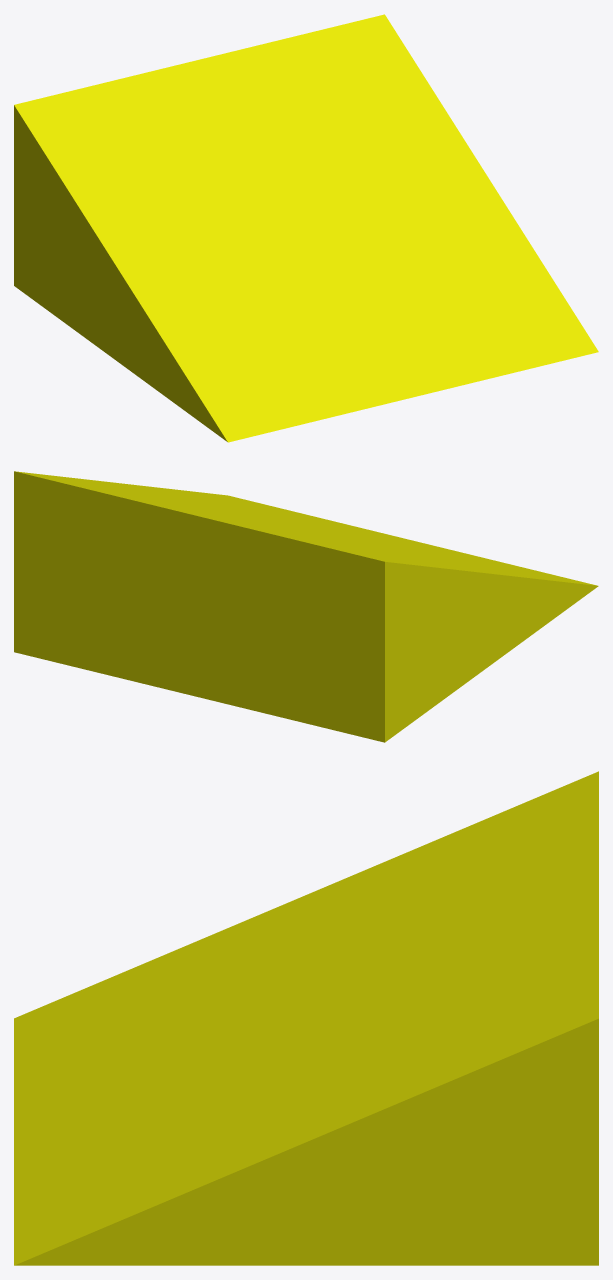
Rendered from SM_Buildings_Ramp_25_1x1_01.glb.
The picture shows the model from 3 angles, top to bottom: view 1: azimuth 30°, elevation 25°; view 2: azimuth 150°, elevation 25°; view 3: azimuth 270°, elevation 25°; orthographic projection. The views are drawn at different scales.
Parts seen in each view (by area): view 1: SM_Buildings_Ramp_25_1x1_01; view 2: SM_Buildings_Ramp_25_1x1_01; view 3: SM_Buildings_Ramp_25_1x1_01.
Boxes of the visible parts, box(x1,y1,x2,y2) form: SM_Buildings_Ramp_25_1x1_01: box(14, 14, 598, 442); SM_Buildings_Ramp_25_1x1_01: box(14, 471, 598, 742); SM_Buildings_Ramp_25_1x1_01: box(14, 771, 598, 1265).
Size of the model in its own units: 1 by 0.4663 by 1.
1 material, 1 textured.
